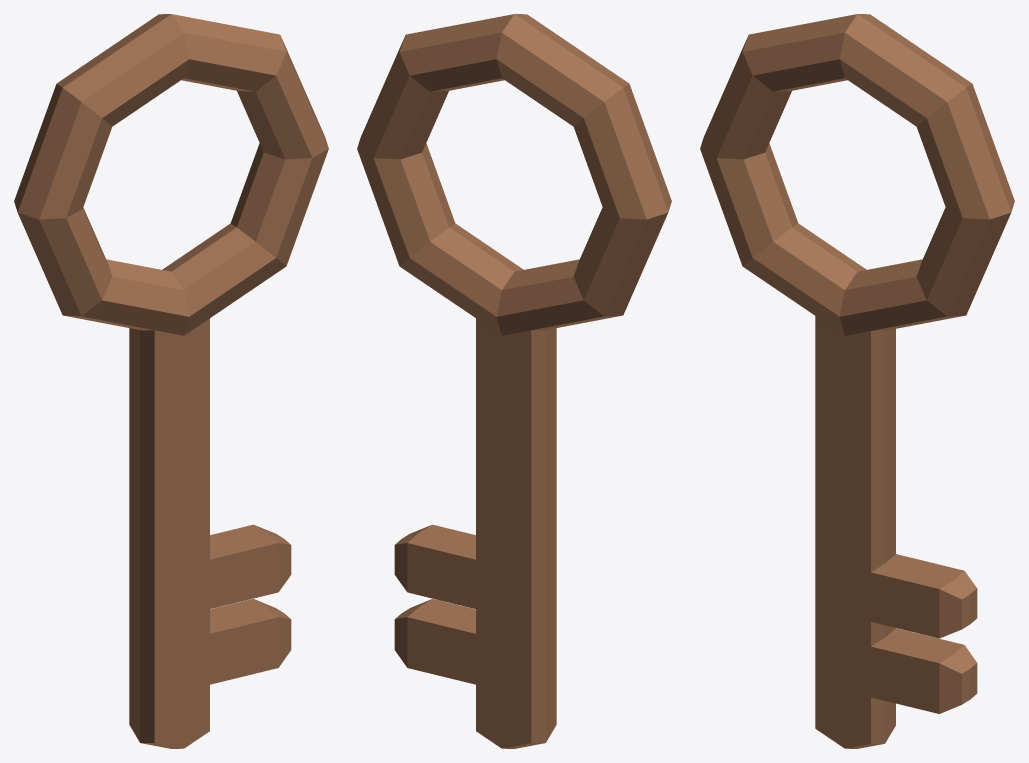
File: anahtar.fbx
3 views of the same model, side by side, from view 1: azimuth 30°, elevation 25°; view 2: azimuth 150°, elevation 25°; view 3: azimuth 330°, elevation 25° (orthographic).
Parts seen in each view (by area): view 1: Torus; view 2: Torus; view 3: Torus.
Boxes of the visible parts, box(x1,y1,x2,y2) form: Torus: box(14, 14, 328, 748); Torus: box(357, 14, 671, 748); Torus: box(700, 14, 1014, 748).
Bounding box in the file's own units: 177 × 405 × 35.47.
